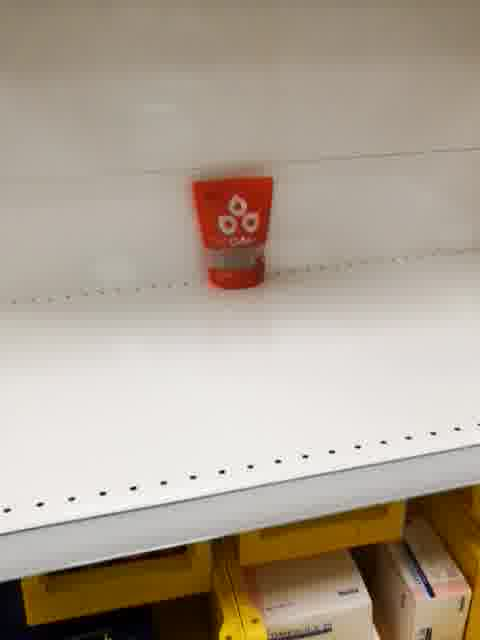whitechia: (190, 170, 273, 291)
